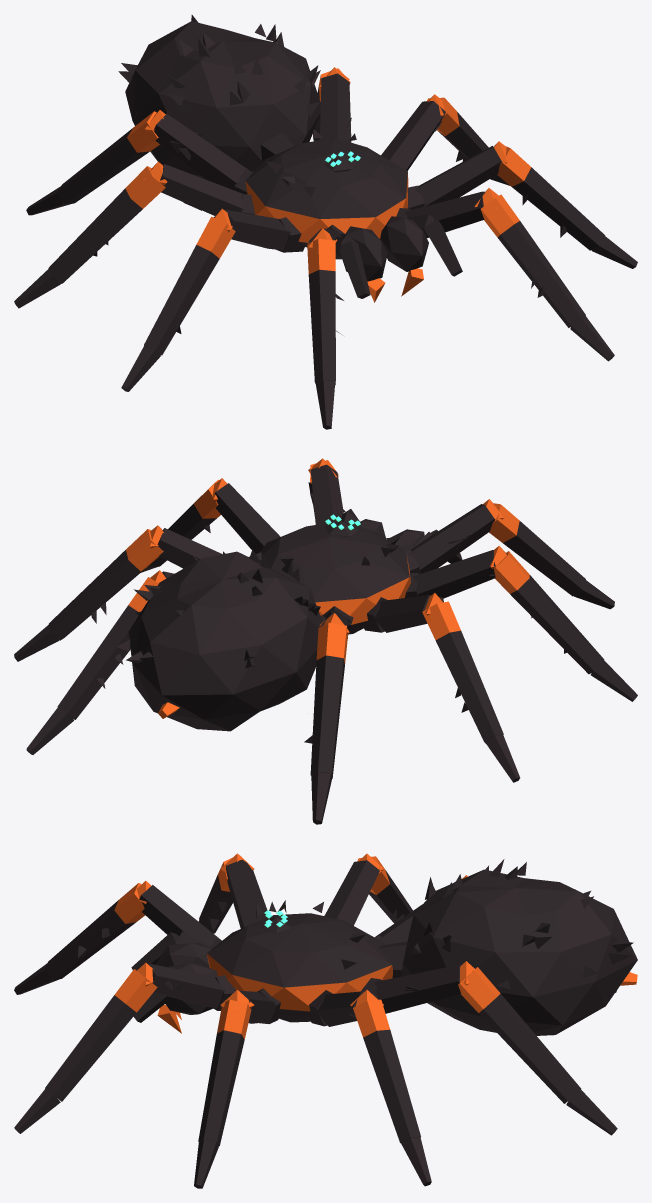
Rendered from tarantula.glb.
The picture shows the model from 3 angles, top to bottom: view 1: azimuth 30°, elevation 25°; view 2: azimuth 150°, elevation 25°; view 3: azimuth 270°, elevation 25°; orthographic projection.
Visible parts, largest first — view 1: abdomen, body, leg_L1_lower, leg_R2_lower, leg_R3_lower, leg_R1_lower, leg_L2_lower, fangs, leg_R4_lower, leg_R4_upper, leg_L2_upper, leg_R3_upper (+7 smaller); view 2: abdomen, body, leg_R4_lower, leg_R3_lower, leg_R2_lower, leg_L3_lower, leg_L4_lower, leg_R1_lower, leg_R1_upper, leg_R2_upper, leg_L2_upper, leg_R3_upper (+4 smaller); view 3: abdomen, body, leg_L4_lower, leg_L1_lower, leg_L2_lower, leg_L3_lower, leg_R1_lower, leg_L4_upper, leg_L1_upper, fangs, leg_R1_upper, leg_R3_upper (+8 smaller).
Part boxes in pixels (bbox=[...]): abdomen: bbox=[118, 15, 320, 179]; body: bbox=[245, 129, 408, 247]; leg_L1_lower: bbox=[474, 188, 614, 361]; leg_R2_lower: bbox=[121, 208, 235, 391]; leg_R3_lower: bbox=[14, 161, 167, 308]; leg_R1_lower: bbox=[307, 228, 343, 429]; leg_L2_lower: bbox=[494, 141, 637, 268]; fangs: bbox=[342, 216, 428, 302]; leg_R4_lower: bbox=[26, 110, 165, 215]; leg_R4_upper: bbox=[154, 114, 252, 194]; leg_L2_upper: bbox=[407, 146, 501, 209]; leg_R3_upper: bbox=[160, 164, 254, 215]; abdomen: bbox=[116, 549, 326, 731]; body: bbox=[249, 514, 410, 634]; leg_R4_lower: bbox=[304, 613, 349, 824]; leg_R3_lower: bbox=[422, 593, 520, 782]; leg_R2_lower: bbox=[490, 546, 637, 701]; leg_L3_lower: bbox=[14, 525, 163, 661]; leg_L4_lower: bbox=[26, 570, 166, 754]; leg_R1_lower: bbox=[482, 499, 614, 609]; leg_R1_upper: bbox=[405, 504, 494, 573]; leg_R2_upper: bbox=[405, 550, 495, 598]; leg_L2_upper: bbox=[214, 483, 280, 553]; leg_R3_upper: bbox=[363, 595, 443, 632]; abdomen: bbox=[378, 859, 637, 1035]; body: bbox=[207, 900, 392, 1022]; leg_L4_lower: bbox=[458, 961, 617, 1135]; leg_L1_lower: bbox=[14, 962, 157, 1133]; leg_L2_lower: bbox=[194, 990, 254, 1188]; leg_L3_lower: bbox=[350, 990, 431, 1186]; leg_R1_lower: bbox=[14, 881, 151, 994]; leg_L4_upper: bbox=[360, 964, 461, 1013]; leg_L1_upper: bbox=[148, 963, 236, 1010]; fangs: bbox=[155, 942, 217, 1033]; leg_R1_upper: bbox=[139, 885, 221, 948]; leg_R3_upper: bbox=[324, 860, 379, 925].
Bounding box in the file's own units: 5.5 × 1.93 × 5.72.
